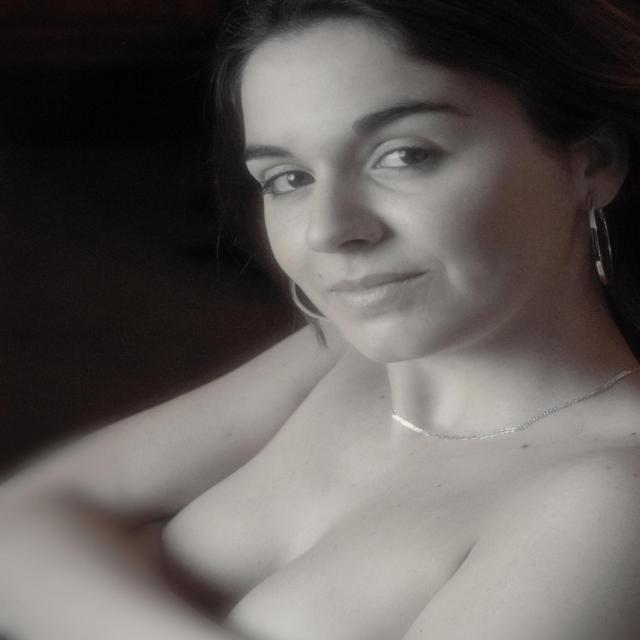no-glass: (264, 142, 441, 193)
